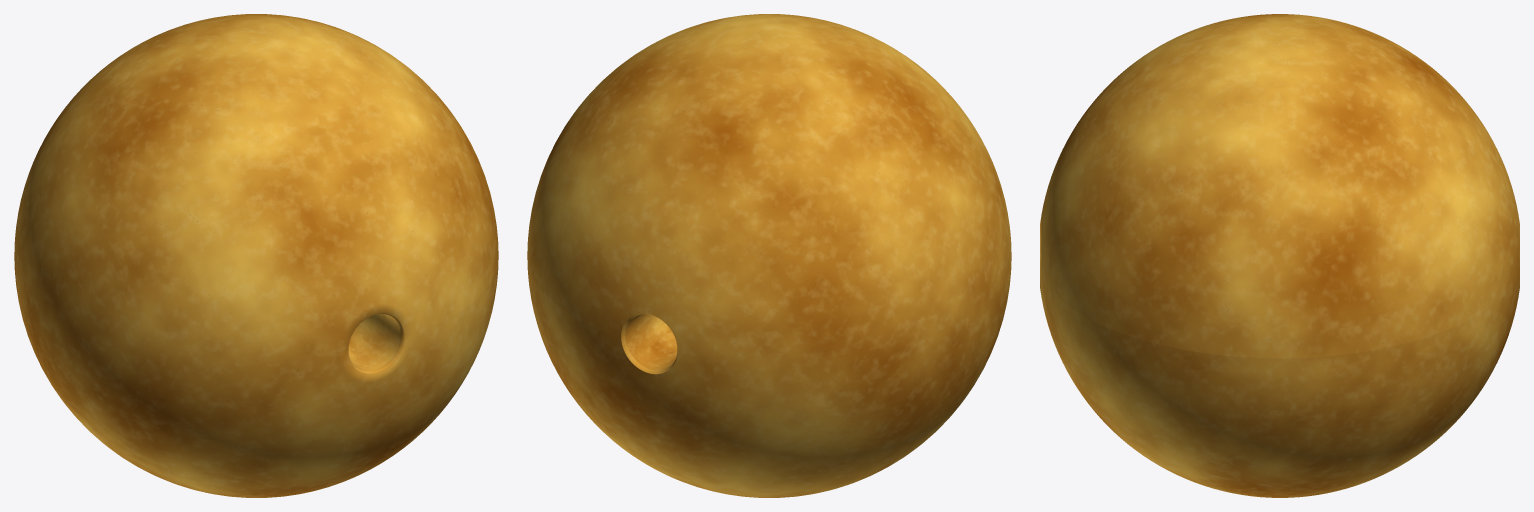
Rendered from yellow-aventurine.glb.
3 renders of one model, left to right at view 1: azimuth 30°, elevation 25°; view 2: azimuth 150°, elevation 25°; view 3: azimuth 270°, elevation 25°, orthographic.
Parts seen in each view (by area): view 1: yellow-aventurine.001; view 2: yellow-aventurine.001; view 3: yellow-aventurine.001.
Part boxes in pixels (bbox=[...]): yellow-aventurine.001: bbox=[14, 14, 498, 497]; yellow-aventurine.001: bbox=[527, 14, 1011, 497]; yellow-aventurine.001: bbox=[1040, 14, 1519, 497].
Bounding box in the file's own units: 0.008 × 0.008 × 0.00793.
Materials: 2 (1 with a texture image).
